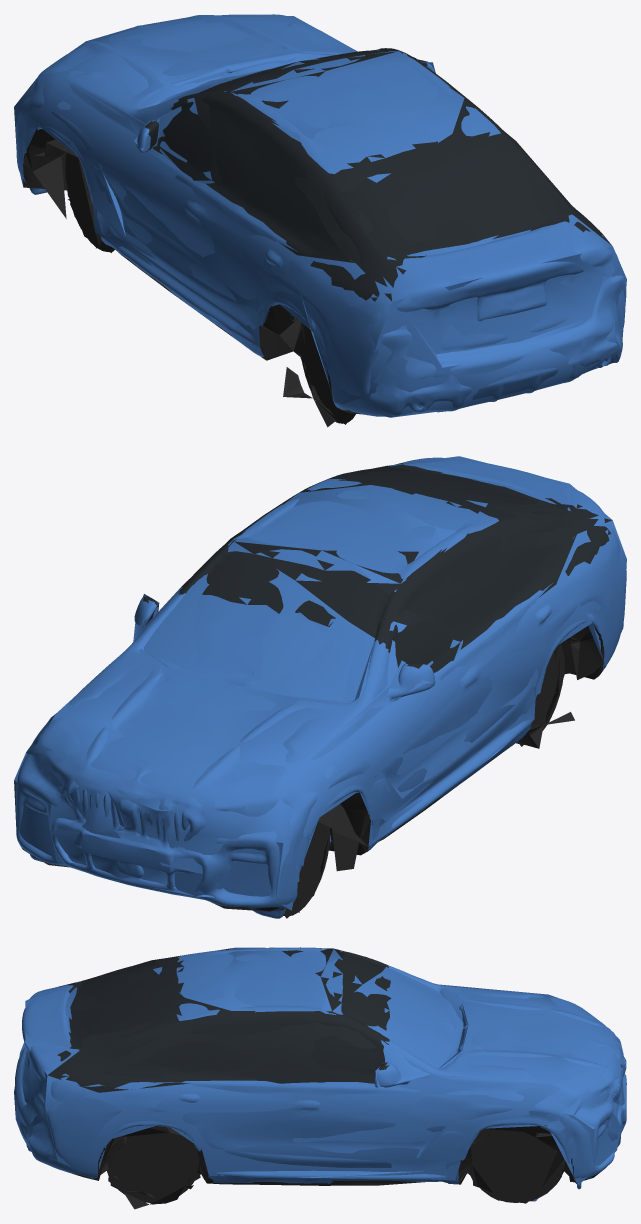
The model's file is bmw-x6.glb.
The picture shows the model from 3 angles, top to bottom: view 1: azimuth 30°, elevation 25°; view 2: azimuth 150°, elevation 25°; view 3: azimuth 270°, elevation 25°; orthographic projection. The views are drawn at different scales.
Parts seen in each view (by area): view 1: body, far; view 2: body, far; view 3: body, far.
Boxes of the visible parts, box(x1,y1,x2,y2) form: body: box(16, 14, 626, 427); far: box(14, 15, 626, 424); body: box(16, 457, 626, 918); far: box(14, 456, 626, 918); body: box(15, 947, 626, 1208); far: box(14, 947, 626, 1209).
Size of the model in its own units: 2.16 by 1.71 by 4.97.
